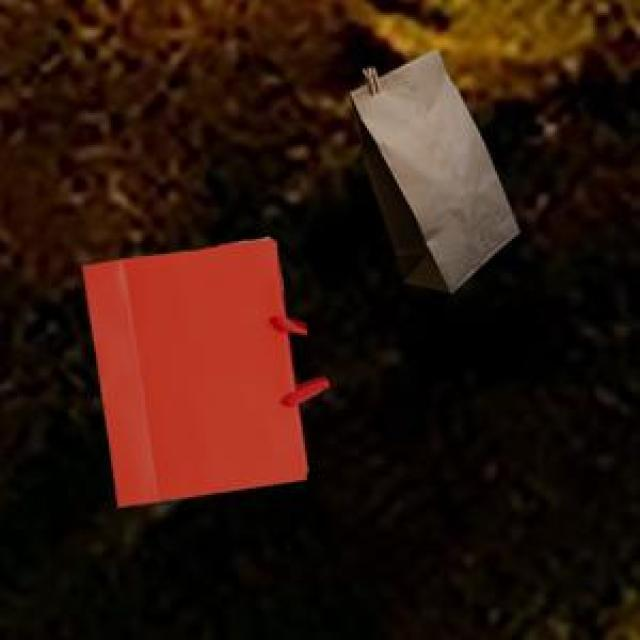paper: (79, 233, 324, 501), (346, 45, 514, 288)
